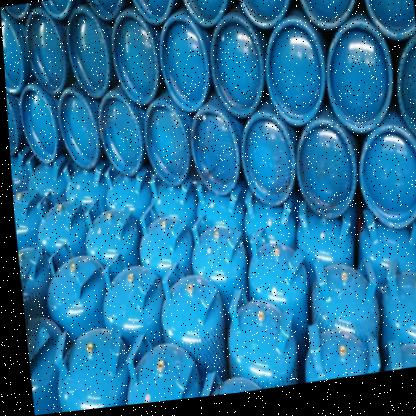gas-tank: (315, 20, 399, 147), (198, 8, 270, 133), (257, 15, 329, 139), (89, 252, 172, 354), (44, 316, 131, 413), (217, 289, 294, 398), (147, 8, 214, 132), (292, 120, 361, 232), (353, 124, 415, 248), (109, 323, 196, 407), (307, 257, 378, 355), (234, 115, 299, 220), (155, 263, 224, 360), (102, 4, 162, 114), (245, 228, 306, 336), (40, 240, 111, 331), (77, 196, 150, 275), (188, 113, 246, 208), (366, 253, 415, 363), (93, 84, 148, 176), (297, 324, 373, 389), (131, 207, 194, 285), (183, 345, 267, 401), (141, 106, 195, 192), (56, 83, 106, 171), (60, 7, 113, 89), (186, 225, 244, 299), (32, 187, 89, 261), (23, 8, 74, 88), (386, 35, 415, 166), (19, 86, 64, 163), (358, 0, 415, 47), (10, 187, 52, 247), (1, 14, 31, 89), (292, 0, 366, 30), (127, 0, 186, 36), (231, 0, 304, 28), (81, 0, 130, 35), (175, 0, 240, 26)
